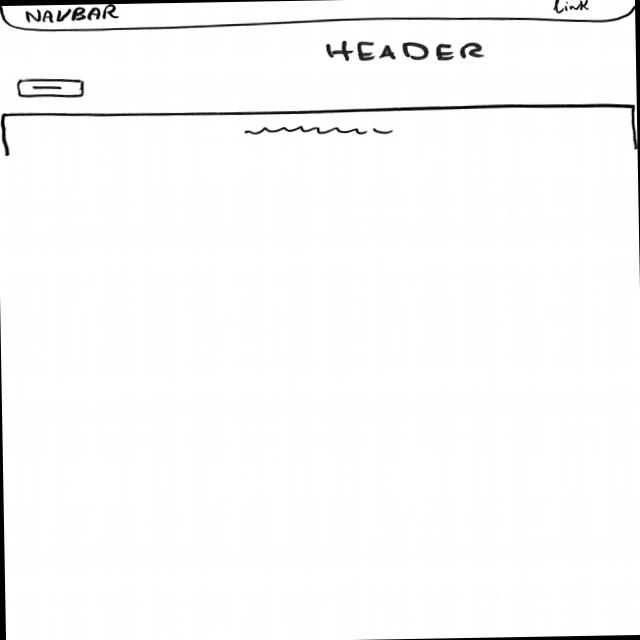container: (0, 0, 634, 33)
icon-button: (15, 76, 86, 100)
label: (326, 36, 486, 64), (22, 4, 122, 22), (550, 0, 592, 15)
text: (240, 122, 397, 138)
